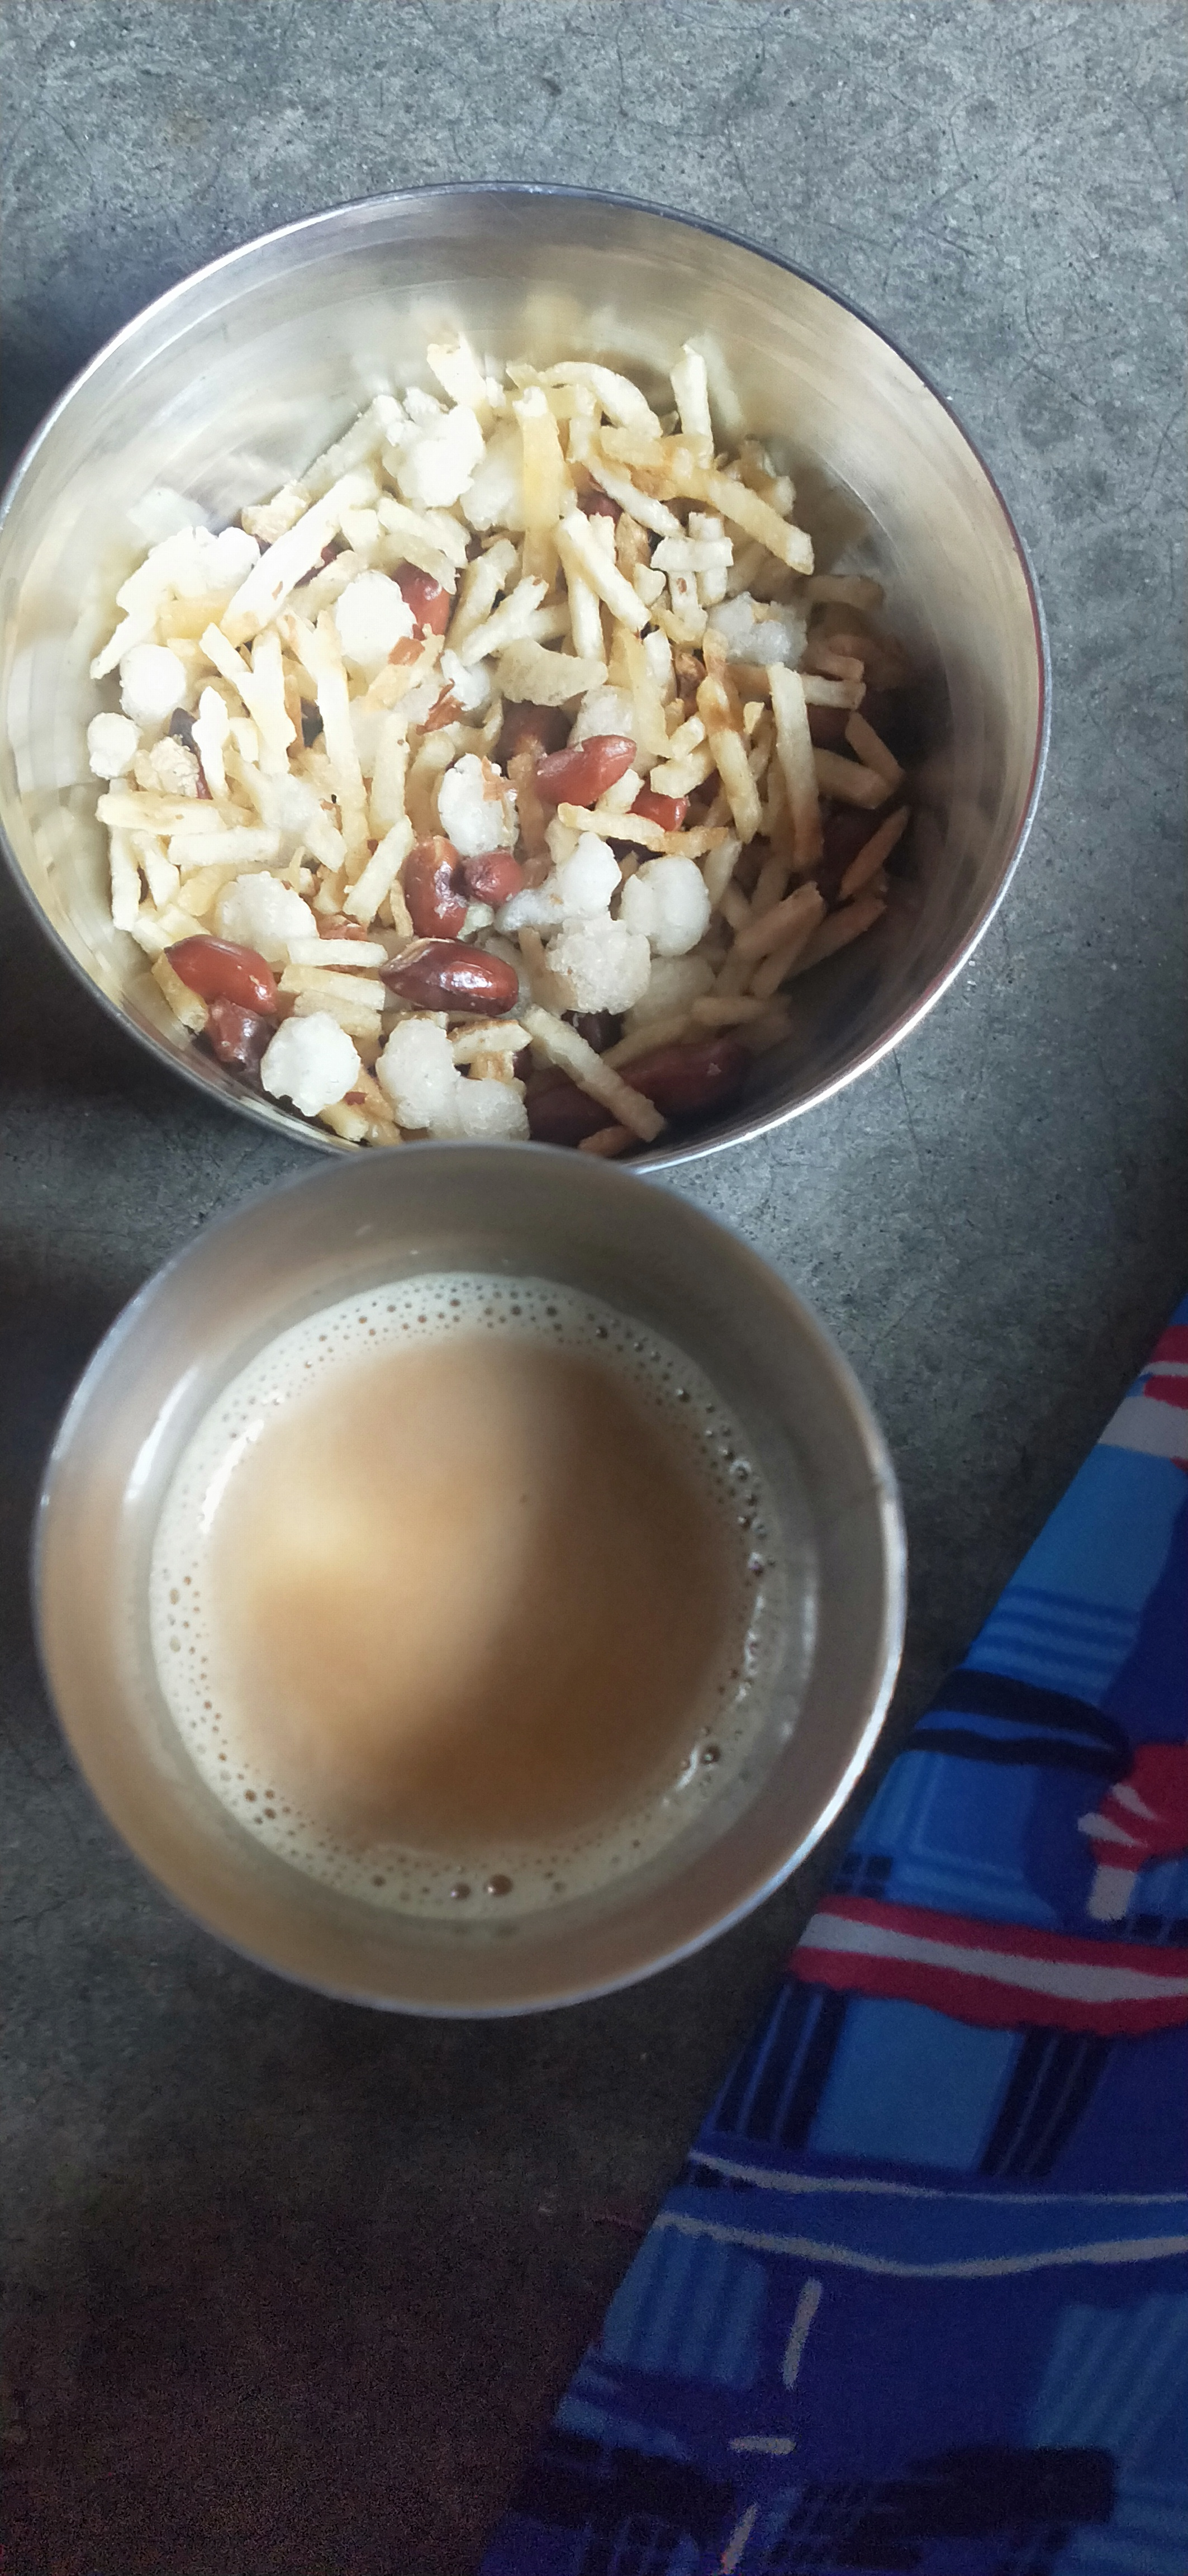food: (72, 319, 933, 1153), (133, 1257, 828, 1944)
